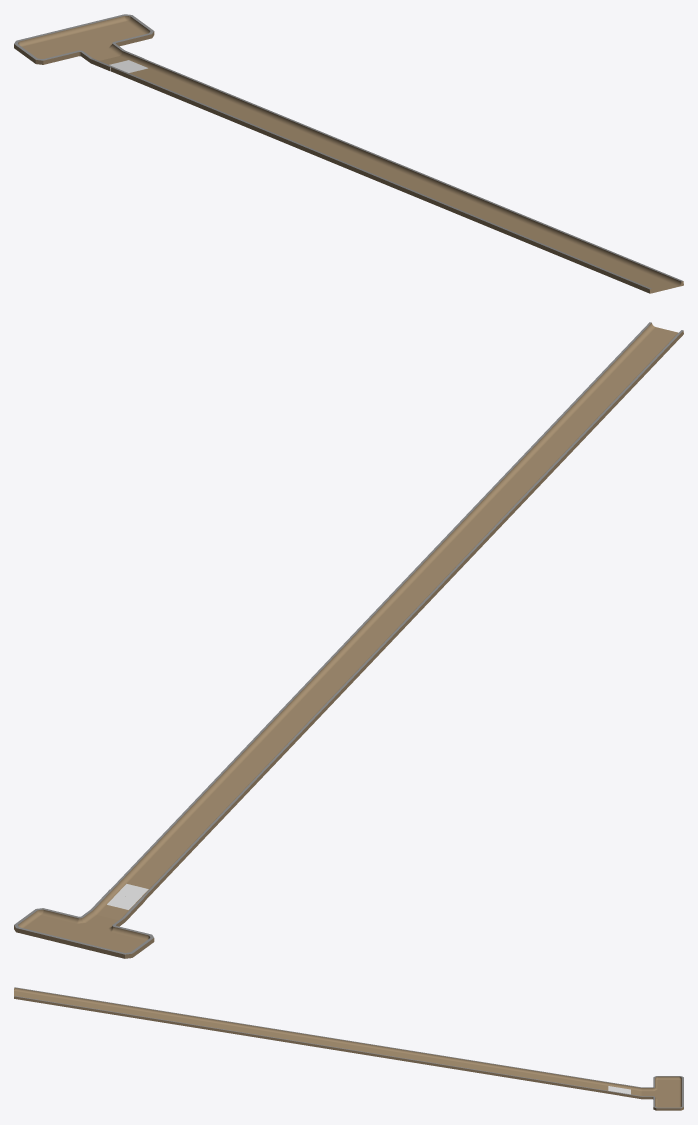
File: RampaCollider_v2.fbx
3 views of the same model, one above another, from view 1: azimuth 30°, elevation 25°; view 2: azimuth 150°, elevation 25°; view 3: azimuth 270°, elevation 25° (orthographic). The views are drawn at different scales.
Parts seen in each view (by area): view 1: Rampa v2 collider; view 2: Rampa v2 collider; view 3: Rampa v2 collider.
Part boxes in pixels (x1,y1,x2,y2): Rampa v2 collider: (14,14,683,293); Rampa v2 collider: (14,322,683,958); Rampa v2 collider: (14,987,683,1110).
Size of the model in its own units: 12800 by 18875 by 111604.
